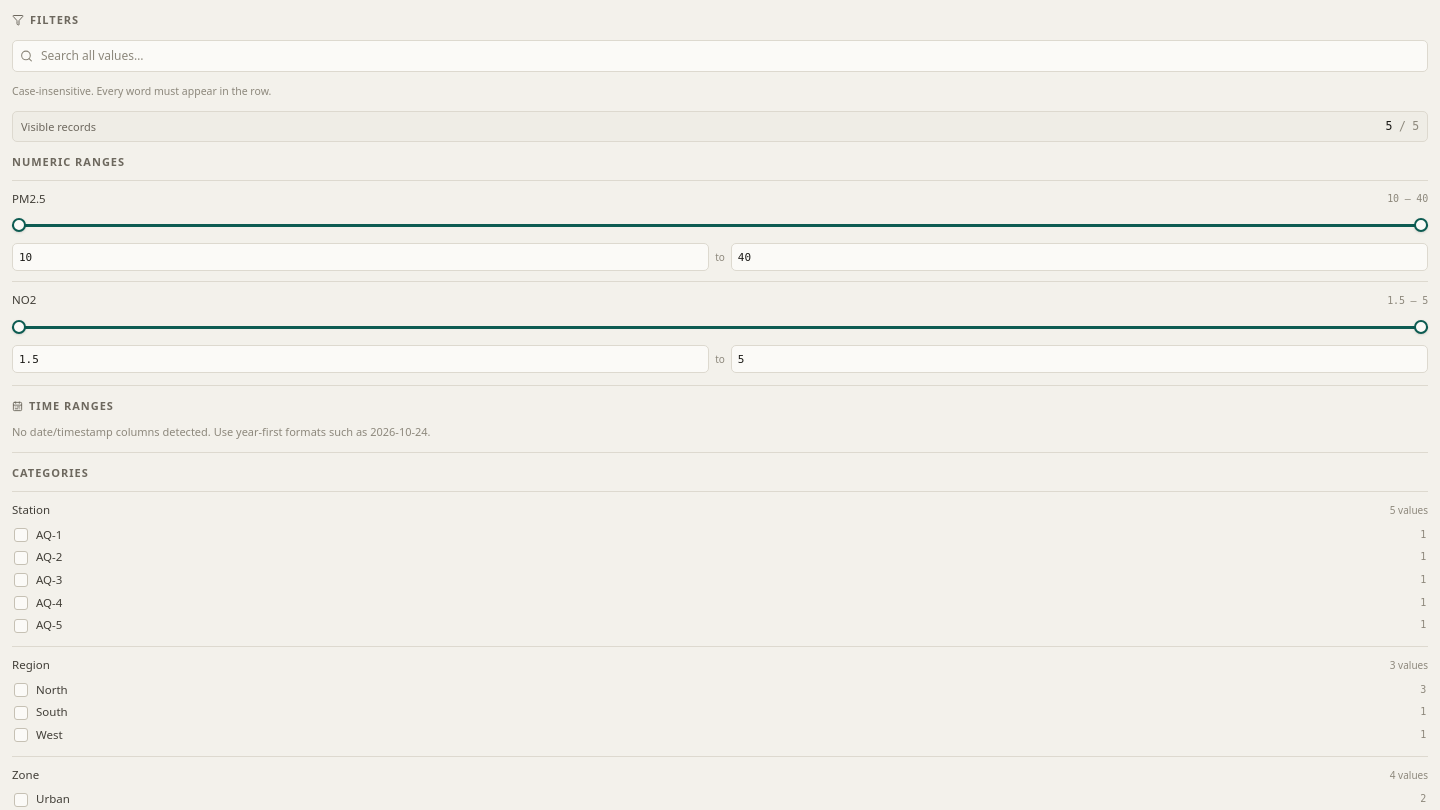
Test case: FilterPanel › ignores invalid numeric input
Replace the text in the number field named "PM2.5 minimum" with "not a number" at (361, 257), box [12, 243, 709, 271]
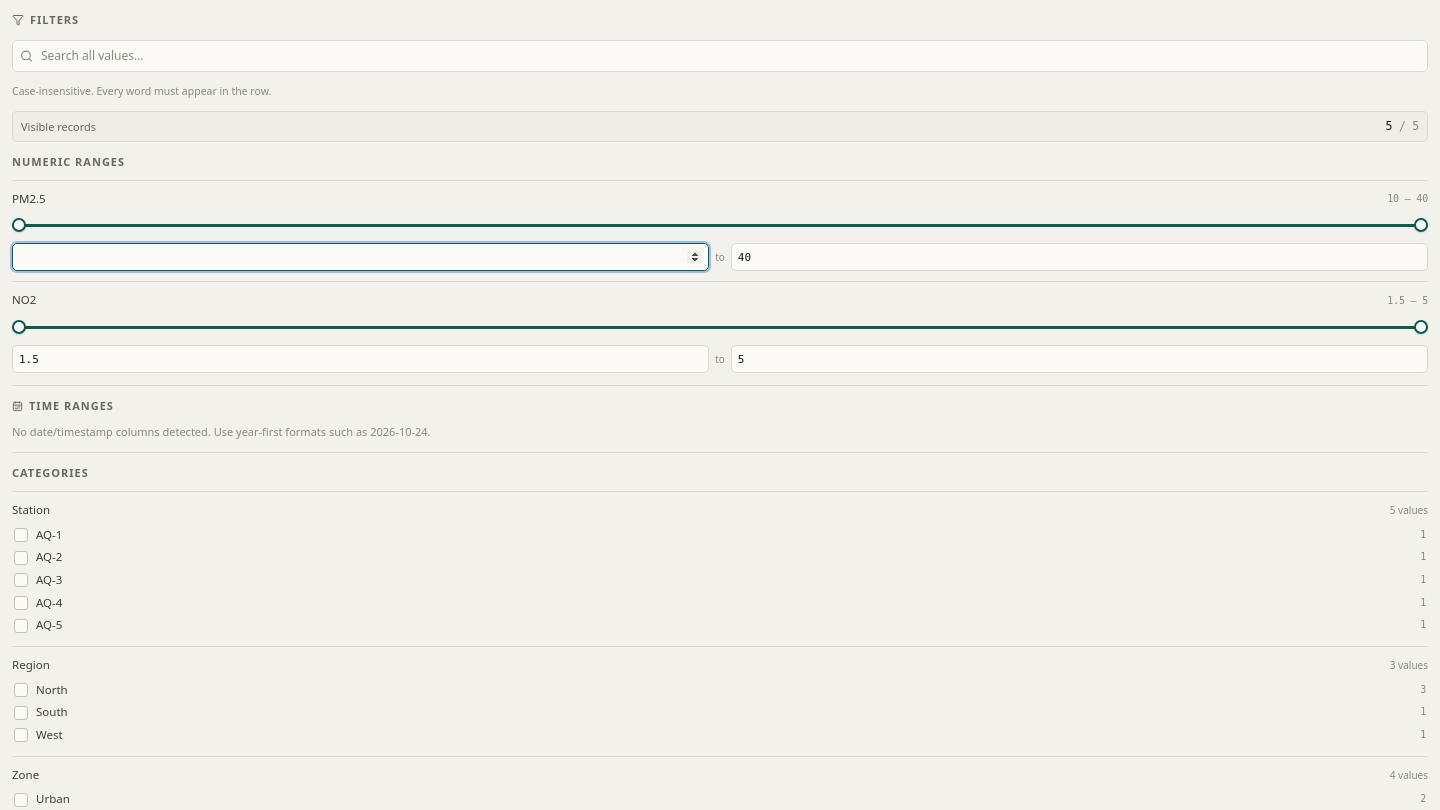
Press Tab
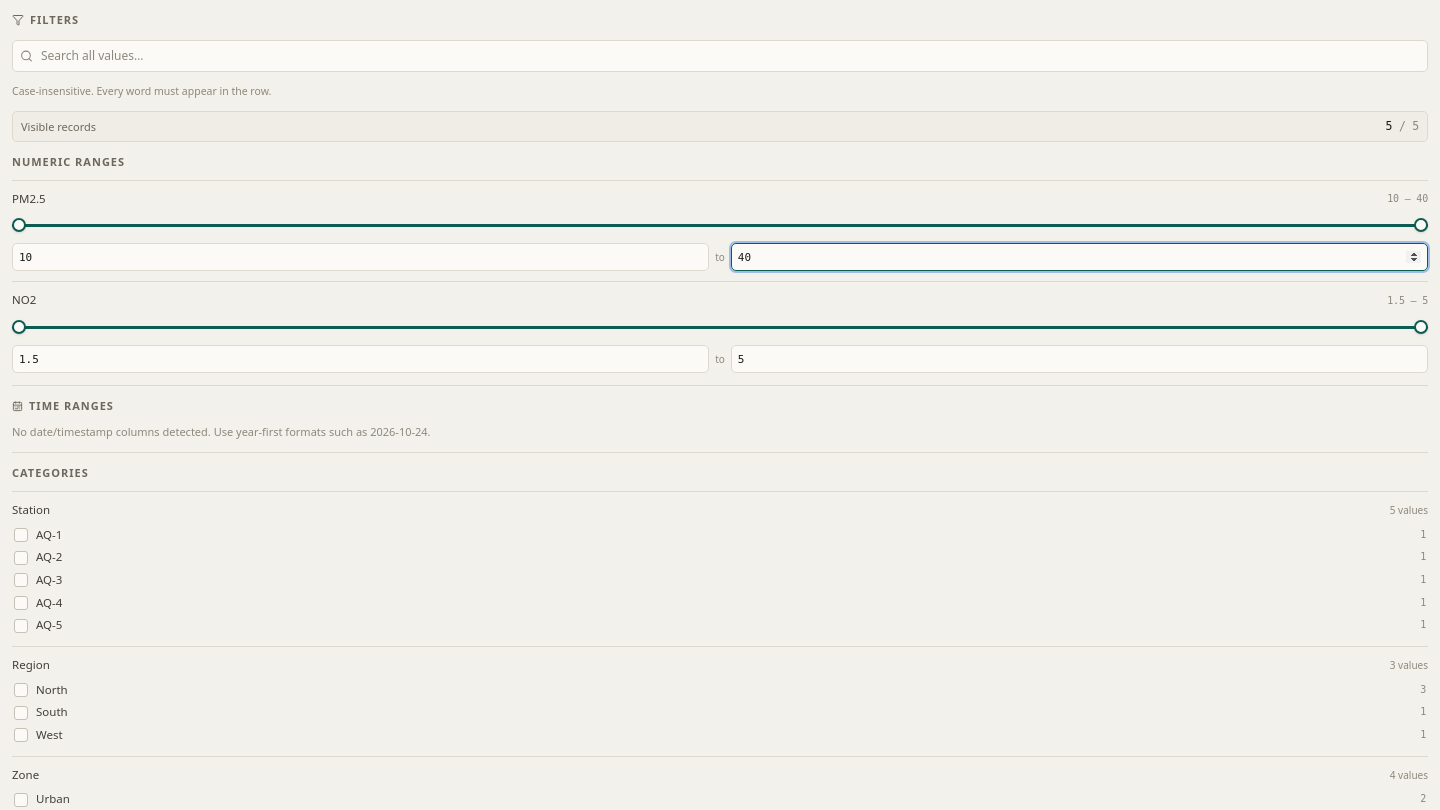
expect the number field named "PM2.5 minimum" holds "10": met, box [12, 243, 709, 271]
